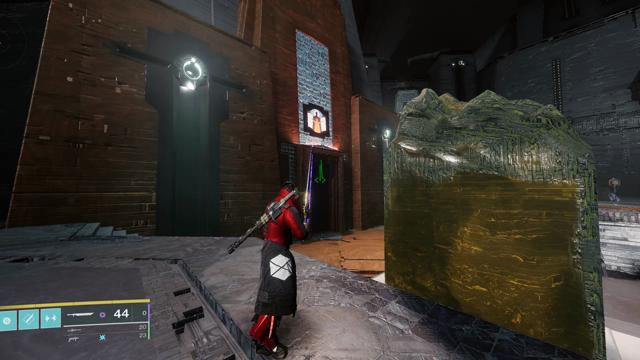worship: (308, 109, 326, 133)
